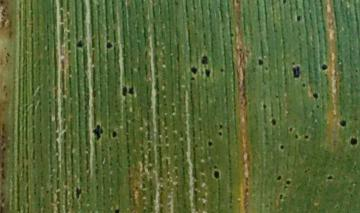tarspot: (91, 122, 106, 142), (346, 135, 360, 149), (72, 185, 84, 200), (291, 63, 301, 80), (75, 39, 87, 51), (210, 170, 222, 182), (337, 117, 349, 129), (310, 91, 323, 102), (202, 68, 214, 79), (103, 40, 116, 50), (255, 57, 267, 67), (294, 14, 306, 24), (127, 87, 138, 97), (200, 55, 210, 66), (110, 129, 120, 139), (277, 142, 287, 152), (205, 139, 216, 148), (325, 173, 336, 182), (268, 118, 279, 127), (121, 84, 129, 96), (188, 66, 200, 74), (275, 173, 283, 183), (112, 206, 123, 213), (276, 194, 287, 201), (287, 126, 296, 134), (320, 63, 329, 71), (261, 102, 268, 112), (218, 67, 226, 75), (189, 75, 198, 82), (285, 178, 292, 187), (280, 1, 289, 8), (303, 133, 310, 142), (216, 130, 224, 137), (212, 164, 219, 171), (217, 123, 224, 130), (293, 133, 300, 139), (289, 60, 296, 66), (301, 82, 307, 89)
